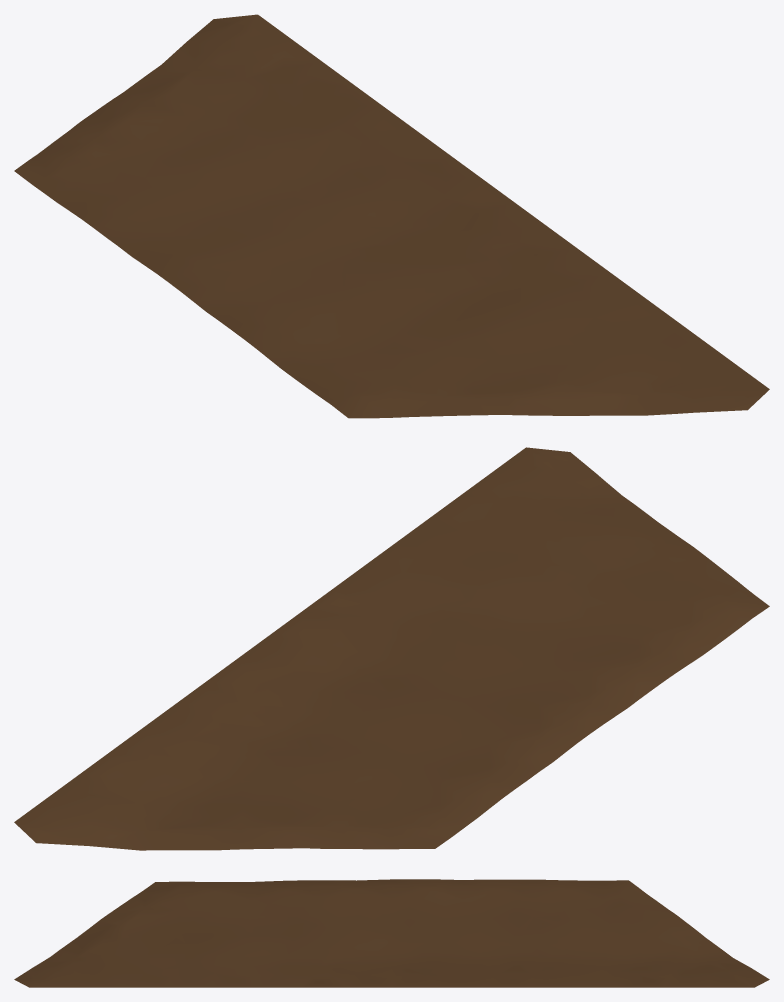
The model's file is forest_forest_edge_e3.glb.
3 renders of one model, top to bottom at view 1: azimuth 30°, elevation 25°; view 2: azimuth 150°, elevation 25°; view 3: azimuth 270°, elevation 25°, orthographic. The views are drawn at different scales.
Visible parts, largest first — view 1: forest_forest_edge_e3_lod0; view 2: forest_forest_edge_e3_lod0; view 3: forest_forest_edge_e3_lod0.
Part boxes in pixels (bbox=[...]): forest_forest_edge_e3_lod0: bbox=[14, 14, 769, 418]; forest_forest_edge_e3_lod0: bbox=[14, 447, 769, 850]; forest_forest_edge_e3_lod0: bbox=[14, 879, 769, 987].
Size of what is drawn, in the model's own units: 6 by 0.2228 by 16.69.
